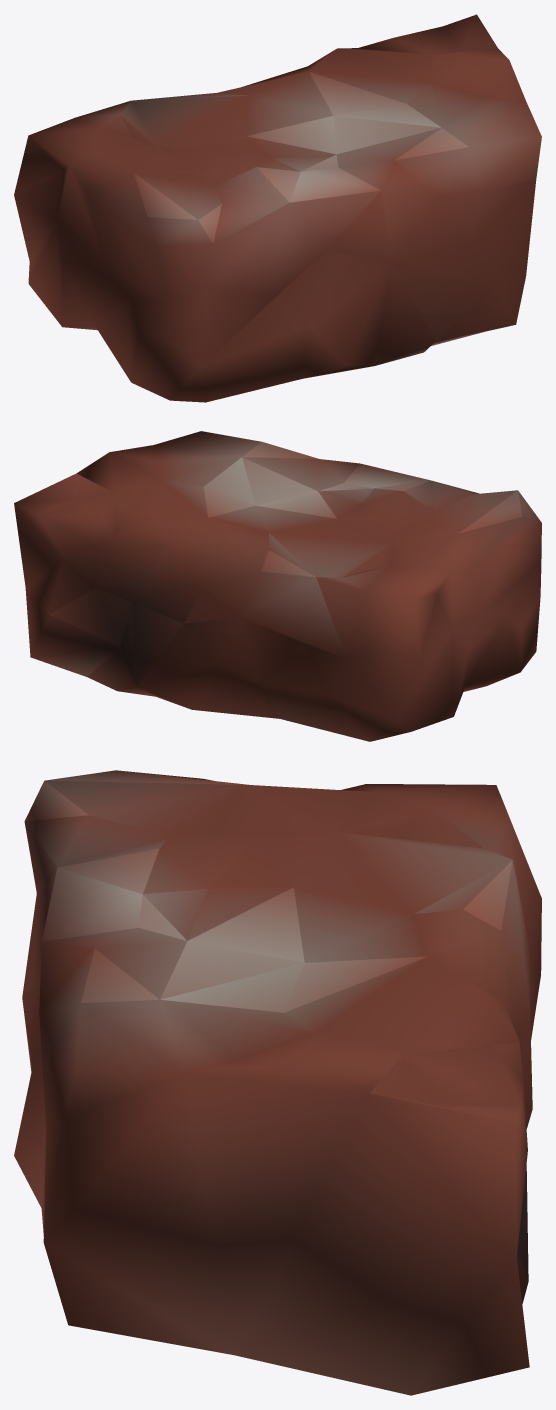
File: ember_brick_chunk_c_lod2.glb
3 views of the same model, one above another, from view 1: azimuth 30°, elevation 25°; view 2: azimuth 150°, elevation 25°; view 3: azimuth 270°, elevation 25° (orthographic). The views are drawn at different scales.
Parts seen in each view (by area): view 1: ember_brick_chunk_c.001; view 2: ember_brick_chunk_c.001; view 3: ember_brick_chunk_c.001.
Boxes of the visible parts, bbox=[...] form: ember_brick_chunk_c.001: bbox=[14, 14, 541, 402]; ember_brick_chunk_c.001: bbox=[14, 431, 541, 741]; ember_brick_chunk_c.001: bbox=[14, 770, 541, 1395].
Size of the model in its own units: 8.46 by 3.78 by 5.28.
